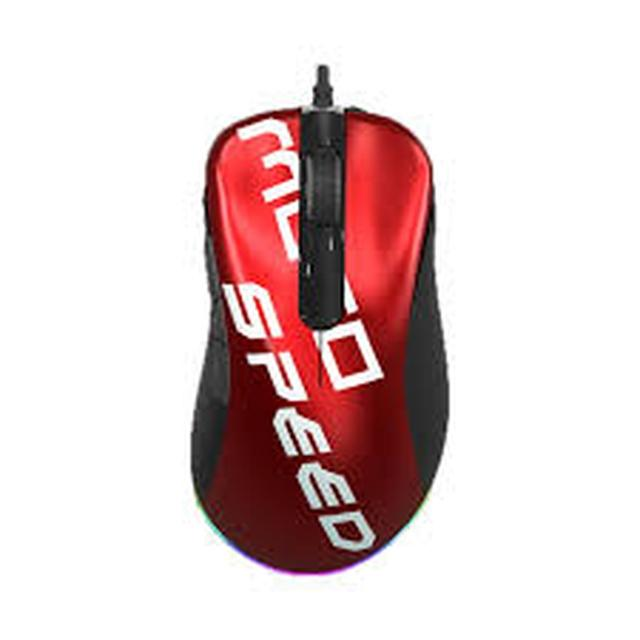mouse: (143, 52, 470, 572)
